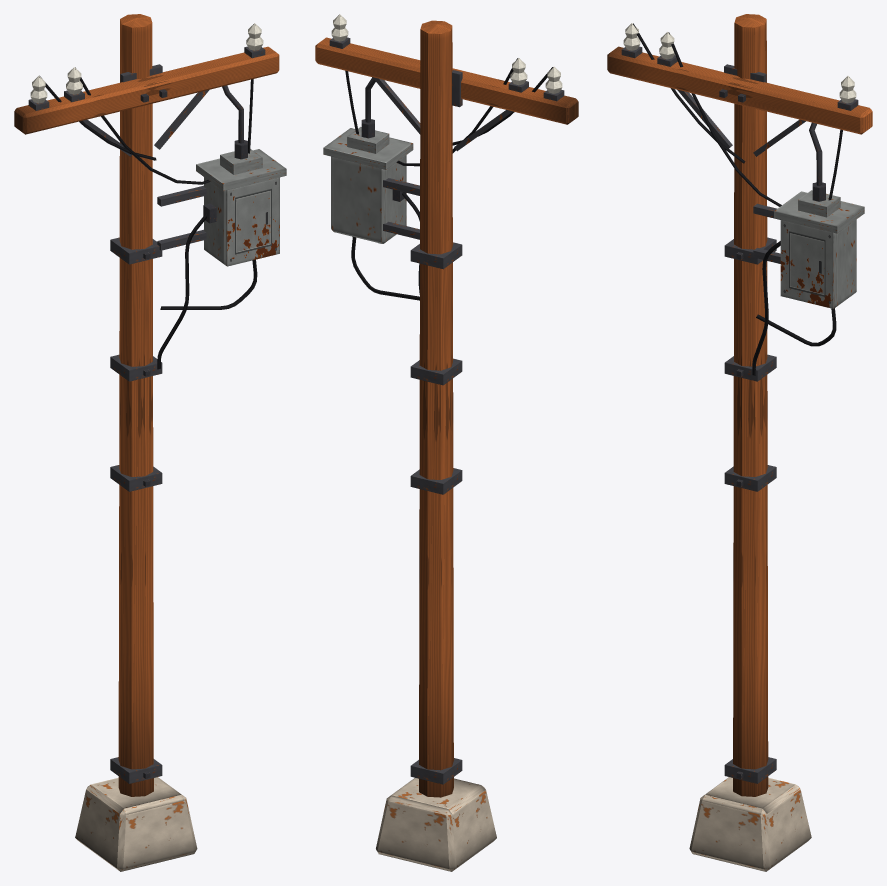
The model's file is Pole_Power.fbx.
The picture shows the model from 3 angles, left to right: view 1: azimuth 30°, elevation 25°; view 2: azimuth 150°, elevation 25°; view 3: azimuth 330°, elevation 25°; orthographic projection.
Parts seen in each view (by area): view 1: Pole_Power_Pole, Pole_Power_Box, Pole_Power_Wires, Pole_Power_Insulators; view 2: Pole_Power_Pole, Pole_Power_Box, Pole_Power_Insulators, Pole_Power_Wires; view 3: Pole_Power_Pole, Pole_Power_Box, Pole_Power_Wires, Pole_Power_Insulators.
Boxes of the visible parts, <box> form: Pole_Power_Pole: <box>14,14,279,871</box>; Pole_Power_Box: <box>157,85,286,266</box>; Pole_Power_Wires: <box>39,24,257,369</box>; Pole_Power_Insulators: <box>28,23,265,110</box>; Pole_Power_Pole: <box>315,20,578,871</box>; Pole_Power_Box: <box>323,77,419,243</box>; Pole_Power_Insulators: <box>329,14,564,101</box>; Pole_Power_Wires: <box>338,15,553,300</box>; Pole_Power_Pole: <box>607,14,872,871</box>; Pole_Power_Box: <box>753,122,864,308</box>; Pole_Power_Wires: <box>631,23,849,375</box>; Pole_Power_Insulators: <box>621,23,858,110</box>.
Size of the model in its own units: 1.95 by 6.02 by 0.7256.
1 material, 1 textured.
